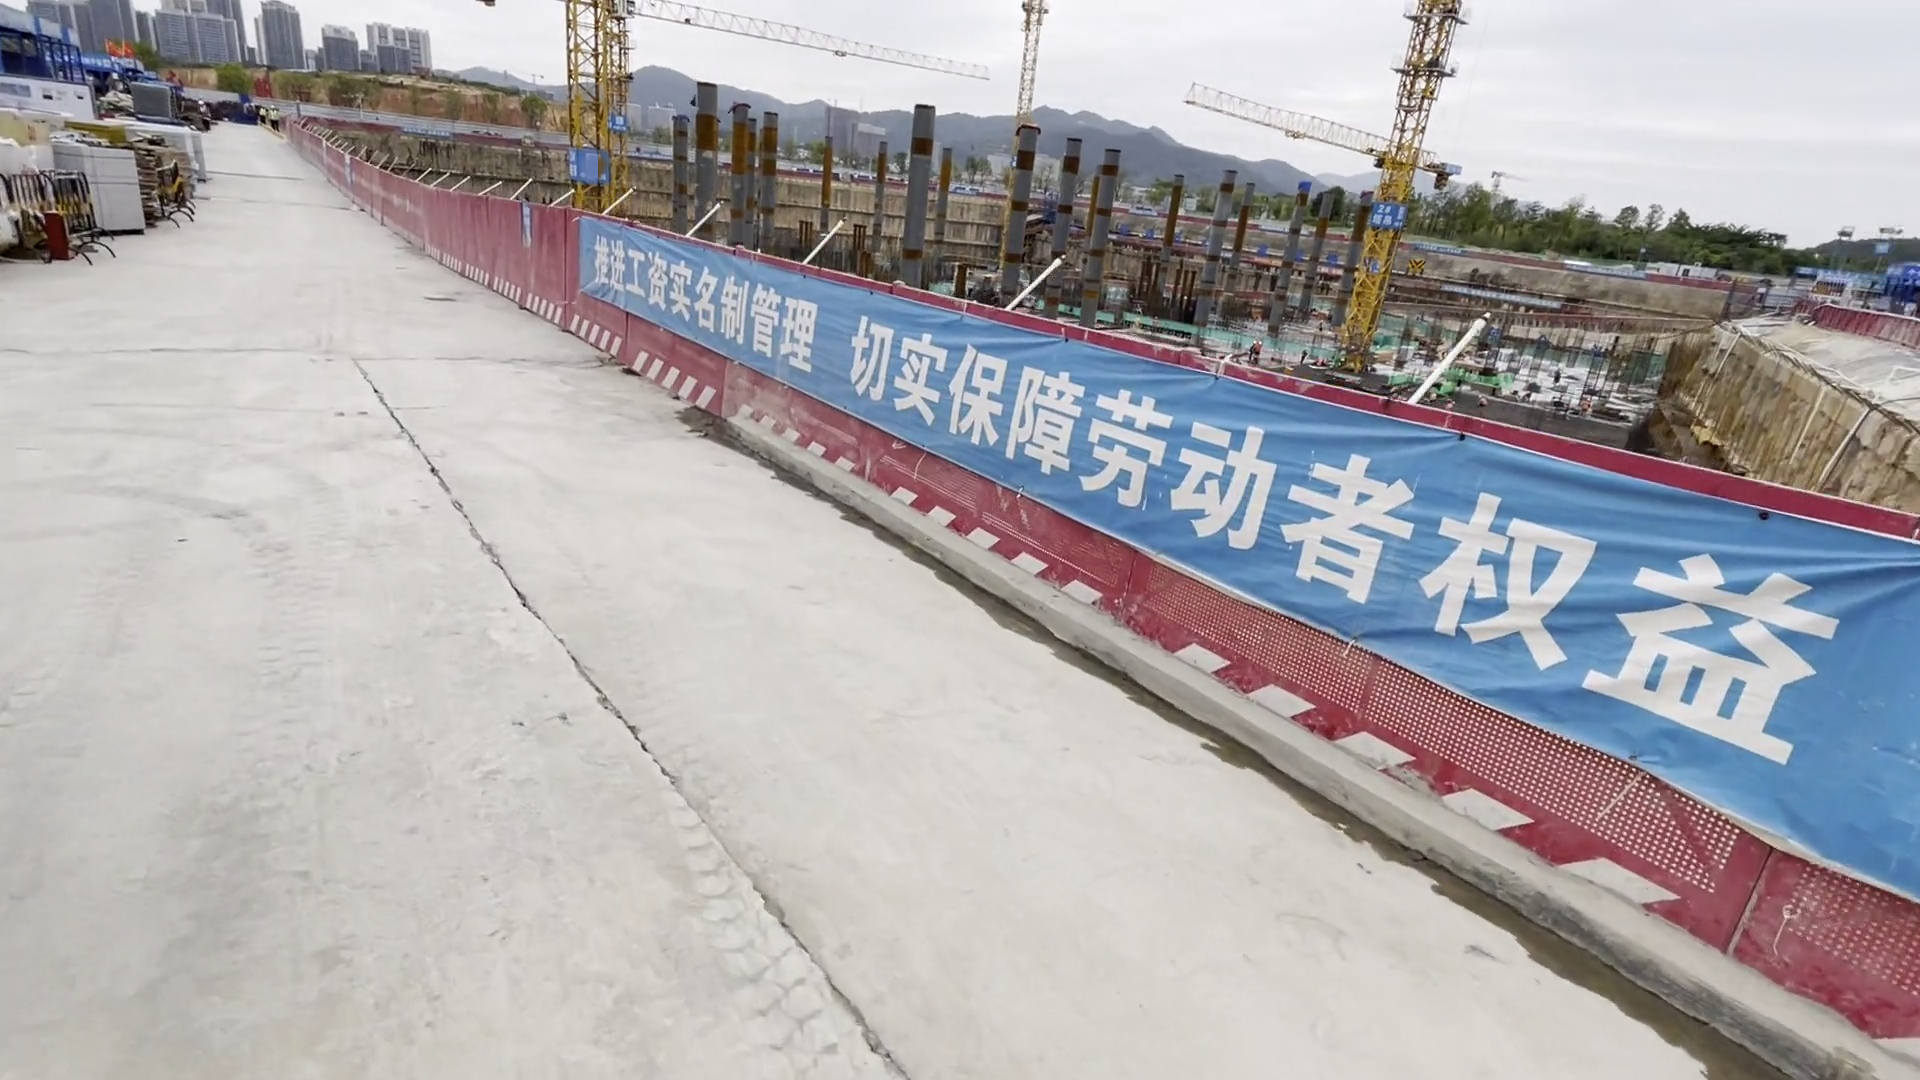brick: (50, 135, 146, 239)
fence: (556, 233, 1920, 1054), (270, 123, 579, 342)
slogan: (568, 229, 1834, 760)
